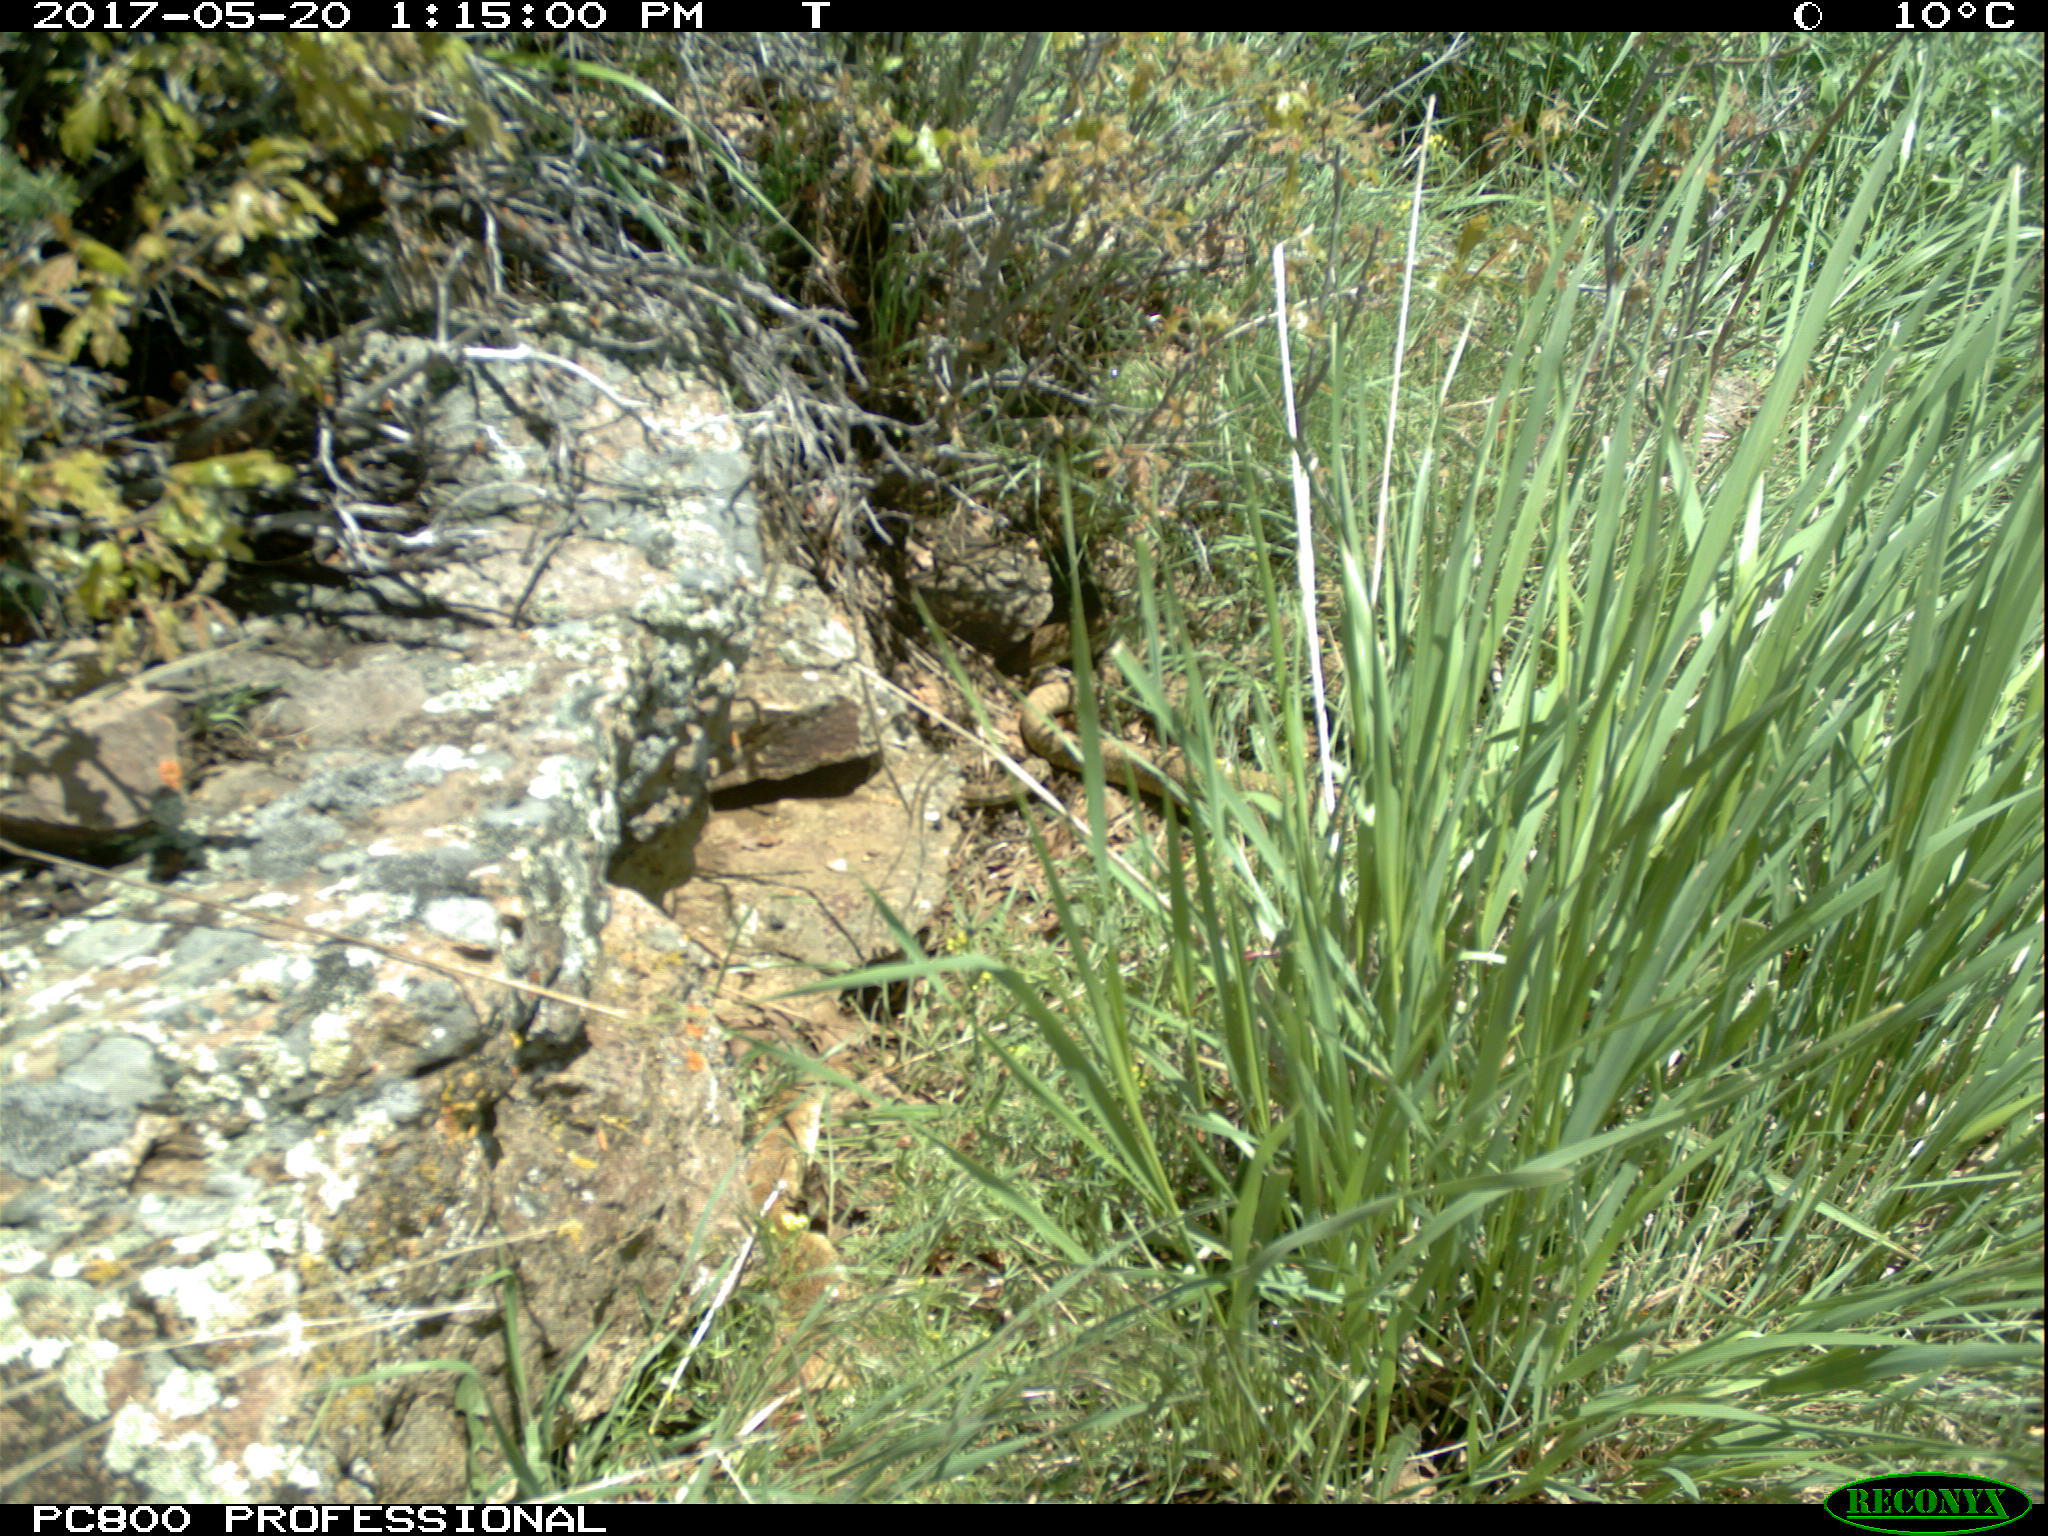snake: (1019, 678, 1319, 805), (743, 1063, 851, 1396)
